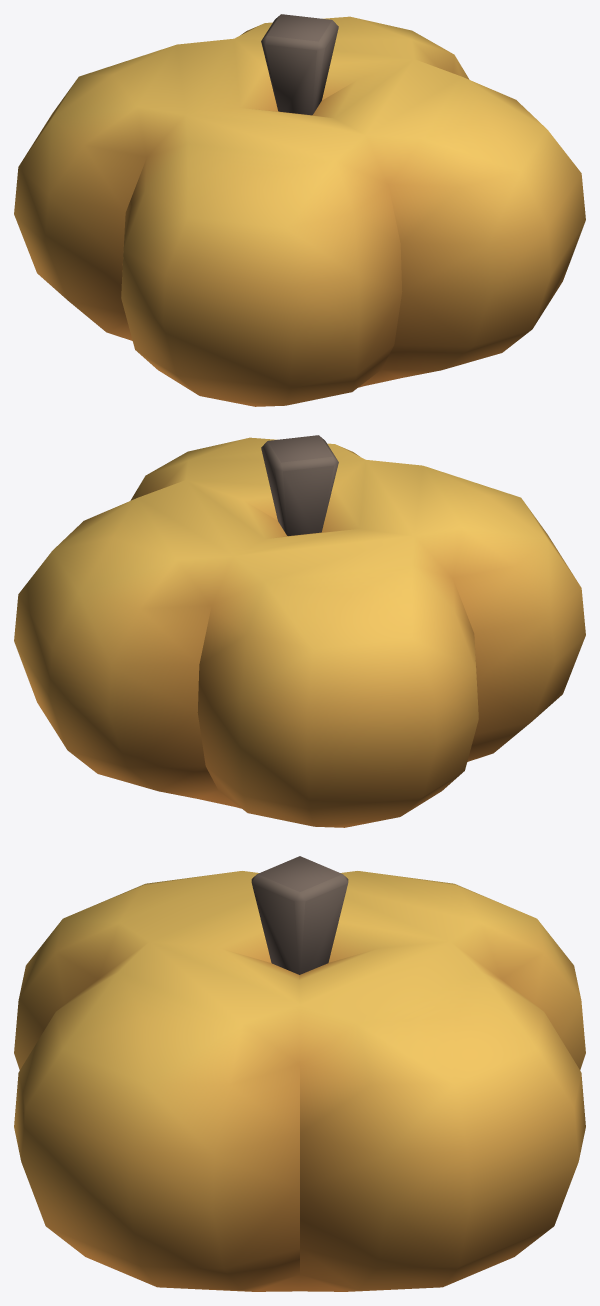
File: Small Pumpkin.glb
3 renders of one model, top to bottom at view 1: azimuth 30°, elevation 25°; view 2: azimuth 150°, elevation 25°; view 3: azimuth 270°, elevation 25°, orthographic. The views are drawn at different scales.
Parts seen in each view (by area): view 1: pumpkin_yellow; view 2: pumpkin_yellow; view 3: pumpkin_yellow.
Part boxes in pixels (x1,y1,x2,y2): pumpkin_yellow: (14, 14, 585, 406); pumpkin_yellow: (14, 435, 585, 827); pumpkin_yellow: (14, 856, 585, 1291).
Size of the model in its own units: 1 by 0.7 by 1.
Materials: 1 (1 with a texture image).
